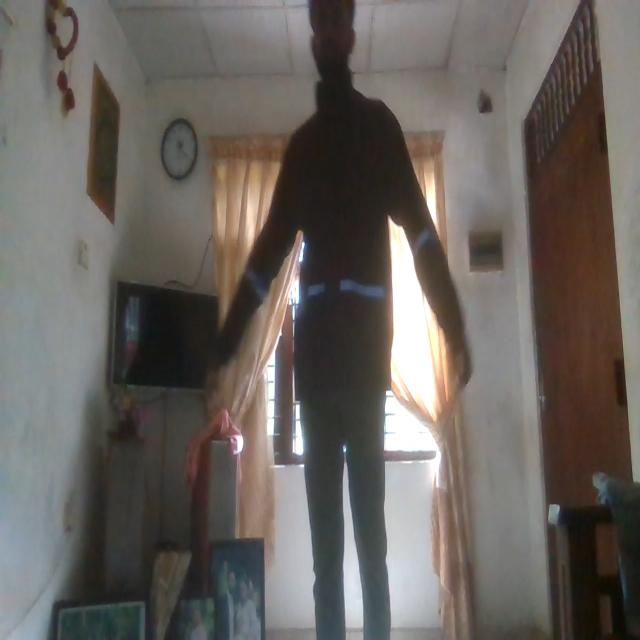Jacket_Wearer: (225, 89, 481, 411)
Person: (258, 0, 434, 640)
